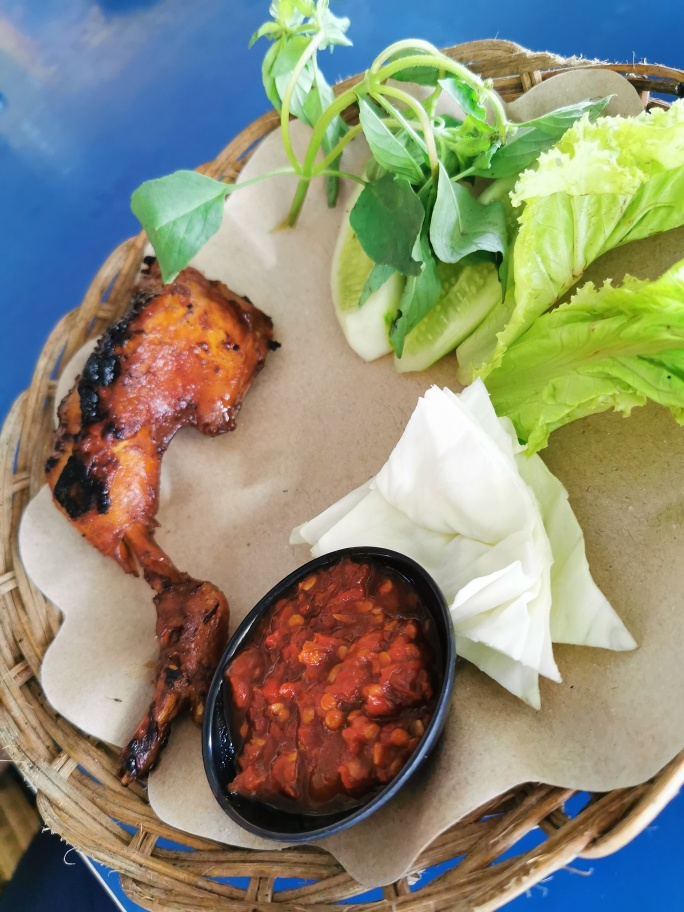ayam bakar: (47, 253, 277, 787)
